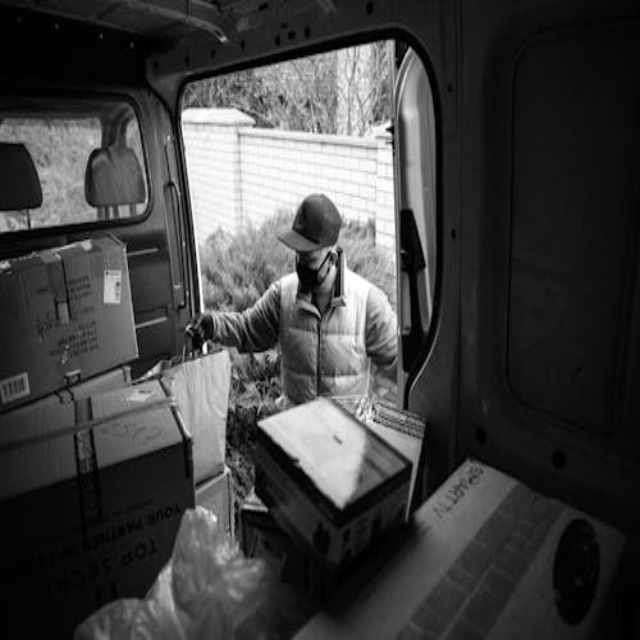Guantes: (185, 312, 215, 345)
Mascara: (296, 249, 336, 290)
